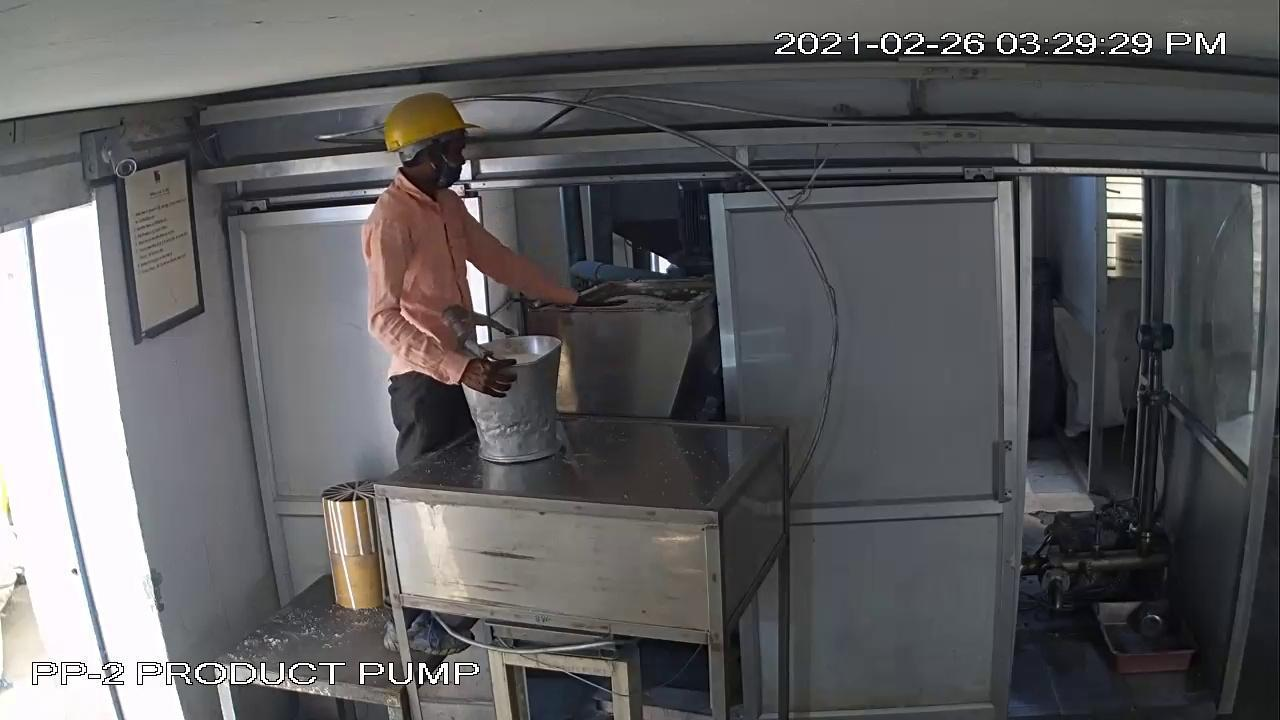helmet: (370, 88, 489, 156)
